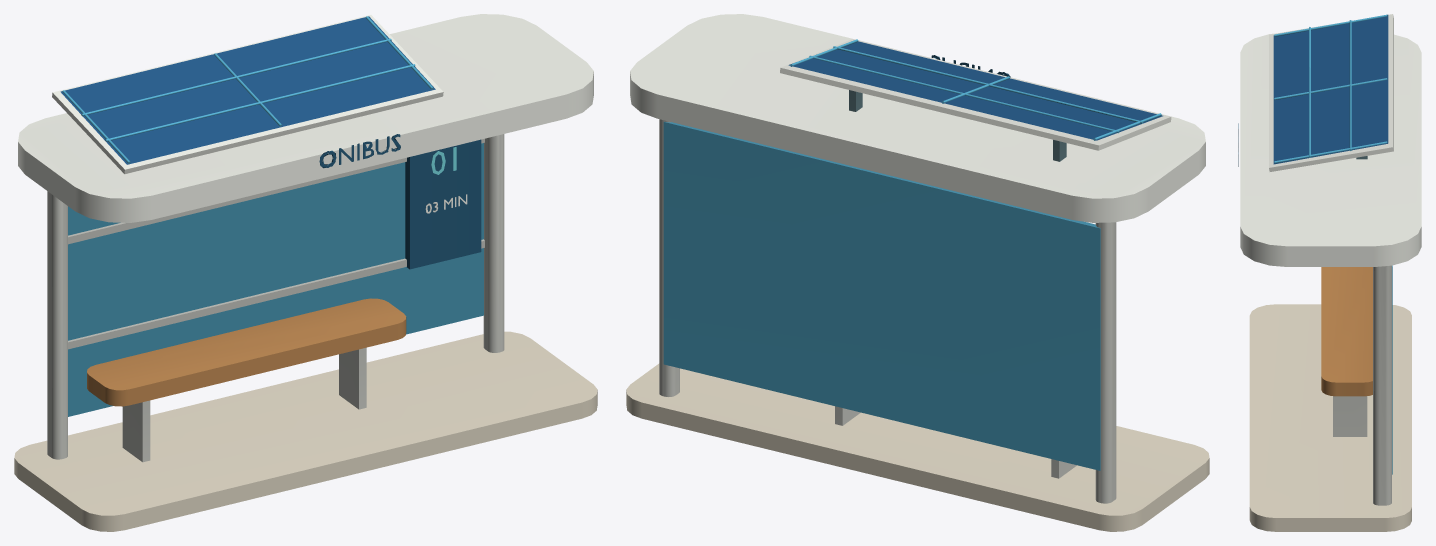
File: bus-shelter-low.glb
The picture shows the model from 3 angles, left to right: view 1: azimuth 30°, elevation 25°; view 2: azimuth 150°, elevation 25°; view 3: azimuth 270°, elevation 25°; orthographic projection. The views are drawn at different scales.
Visible parts, largest first — view 1: shelter column, bus stop foundation, rear shelter glazing, photovoltaic cells, shelter bench, live timetable; view 2: rear shelter glazing, shelter column, bus stop foundation, photovoltaic cells; view 3: shelter column, bus stop foundation, photovoltaic cells, shelter bench, rear shelter glazing.
Part boxes in pixels (x1,y1,x2,y2): shelter column: (18,14,593,462); bus stop foundation: (14,331,597,531); rear shelter glazing: (62,16,483,416); photovoltaic cells: (60,16,435,164); shelter bench: (87,298,406,406); live timetable: (319,134,481,269); rear shelter glazing: (663,39,1161,470); shelter column: (630,14,1205,503); bus stop foundation: (626,363,1209,531); photovoltaic cells: (788,41,1162,140); shelter column: (1240,14,1421,505); bus stop foundation: (1249,304,1411,531); photovoltaic cells: (1273,14,1388,164); shelter bench: (1321,267,1372,396); rear shelter glazing: (1274,14,1392,474).
Size of the model in its own units: 2.65 by 1.86 by 0.96.
